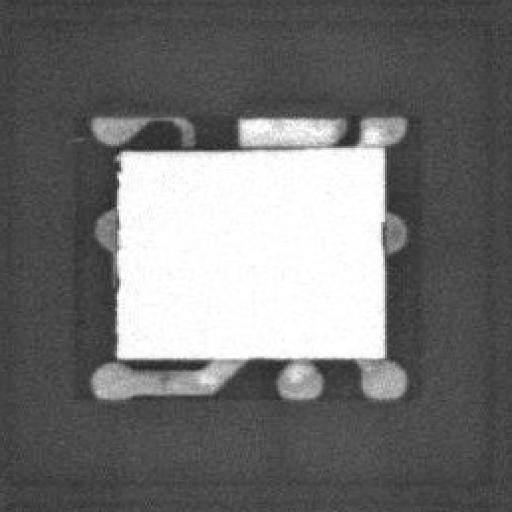DIE_BROKEN: (111, 157, 121, 292)
